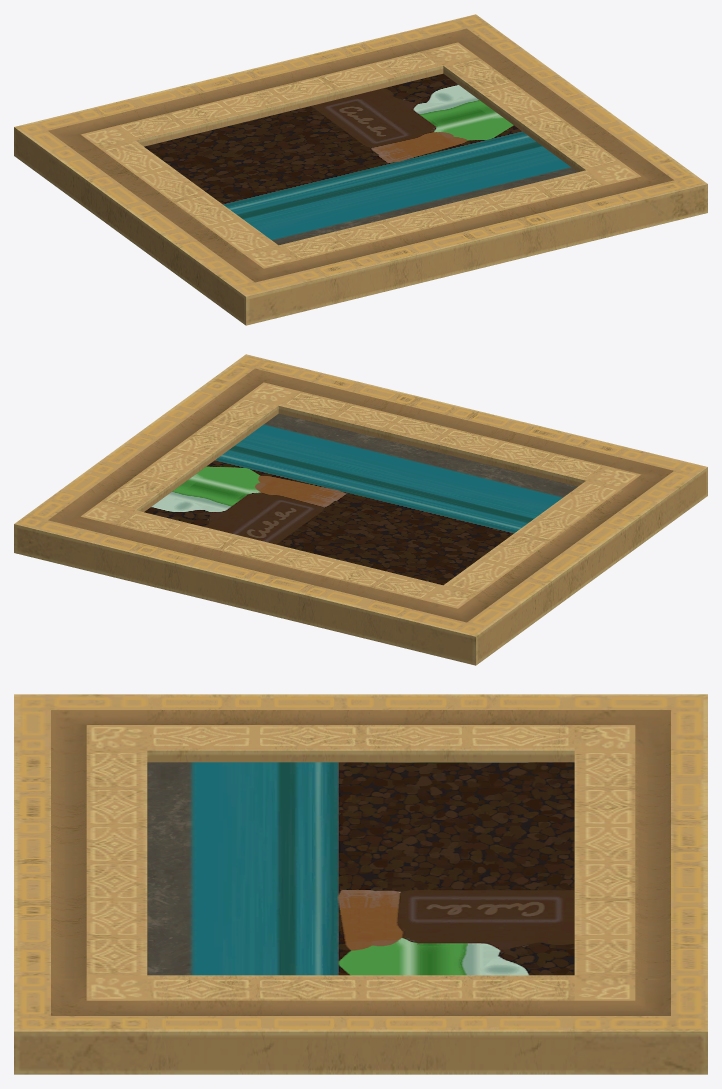
Rendered from art34.fbx.
3 renders of one model, top to bottom at view 1: azimuth 30°, elevation 25°; view 2: azimuth 150°, elevation 25°; view 3: azimuth 270°, elevation 25°, orthographic. The views are drawn at different scales.
Parts seen in each view (by area): view 1: mFrameGold2_low__mFrameGold2.002, StarryNight__mBody; view 2: mFrameGold2_low__mFrameGold2.002, StarryNight__mBody; view 3: mFrameGold2_low__mFrameGold2.002, StarryNight__mBody.
Boxes of the visible parts, <box> form: mFrameGold2_low__mFrameGold2.002: <box>14,14,707,325</box>; StarryNight__mBody: <box>144,73,577,245</box>; mFrameGold2_low__mFrameGold2.002: <box>14,354,707,665</box>; StarryNight__mBody: <box>144,413,577,585</box>; mFrameGold2_low__mFrameGold2.002: <box>14,694,707,1074</box>; StarryNight__mBody: <box>147,762,574,975</box>.
Size of the model in its own units: 558 by 33.31 by 485.
